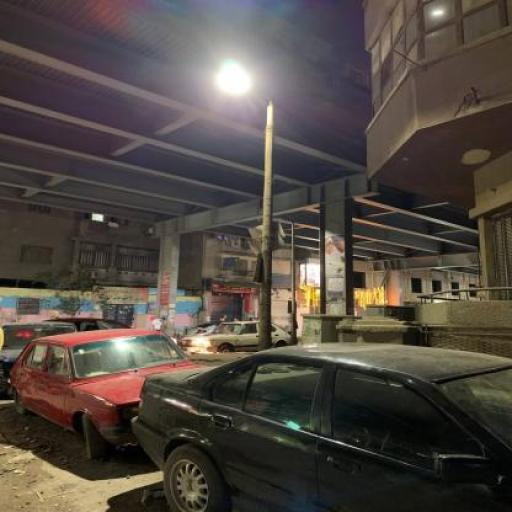street light: (214, 64, 275, 353)
